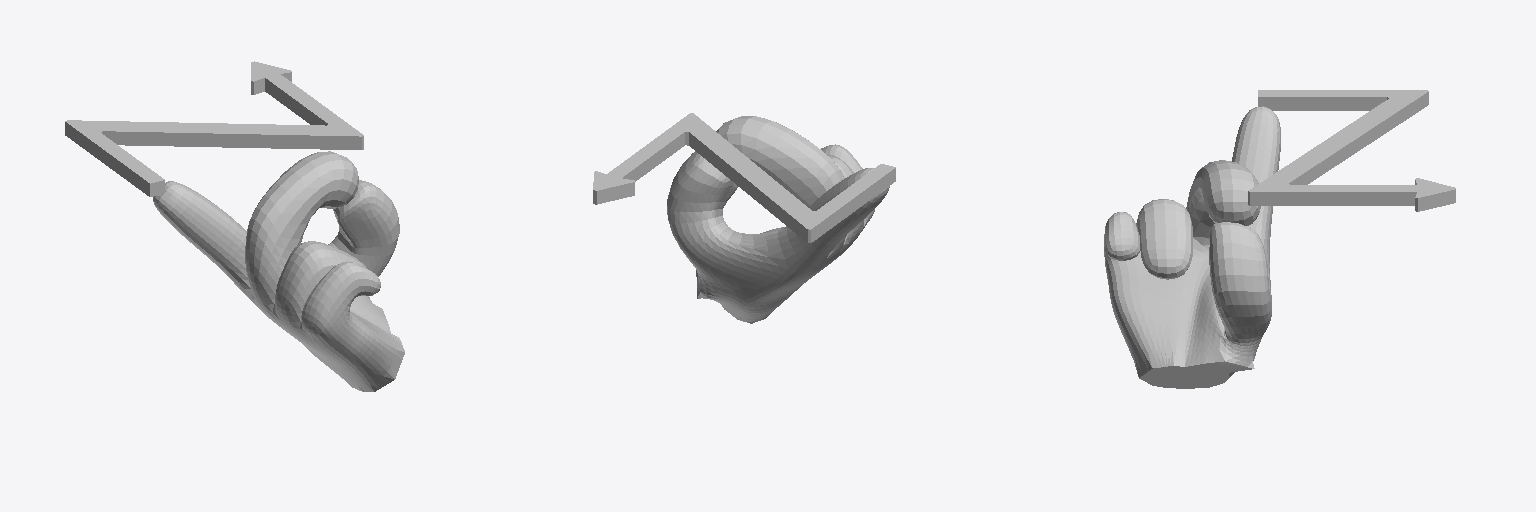
The picture shows the model from 3 angles: view 1: azimuth 30°, elevation 25°; view 2: azimuth 150°, elevation 25°; view 3: azimuth 270°, elevation 25°; orthographic projection.
Visible parts, largest first — view 1: Z_HAND, ZPath; view 2: Z_HAND, ZPath; view 3: Z_HAND, ZPath.
Part boxes in pixels (left/top/right/bottom): Z_HAND: left=153, top=151, right=404, bottom=391; ZPath: left=65, top=61, right=363, bottom=196; Z_HAND: left=667, top=116, right=889, bottom=323; ZPath: left=593, top=113, right=895, bottom=242; Z_HAND: left=1104, top=106, right=1280, bottom=388; ZPath: left=1248, top=90, right=1455, bottom=211.
Size of the model in its own units: 166 by 148 by 217.